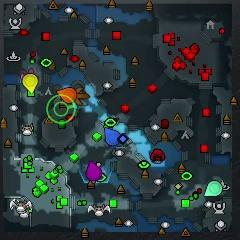p1: (104, 127, 120, 145)
p2: (204, 181, 222, 196)
p3: (86, 161, 102, 180)
p4: (23, 75, 38, 92)
p5: (56, 88, 76, 103)
x1: (20, 69, 34, 79)
x5: (75, 87, 90, 106)
